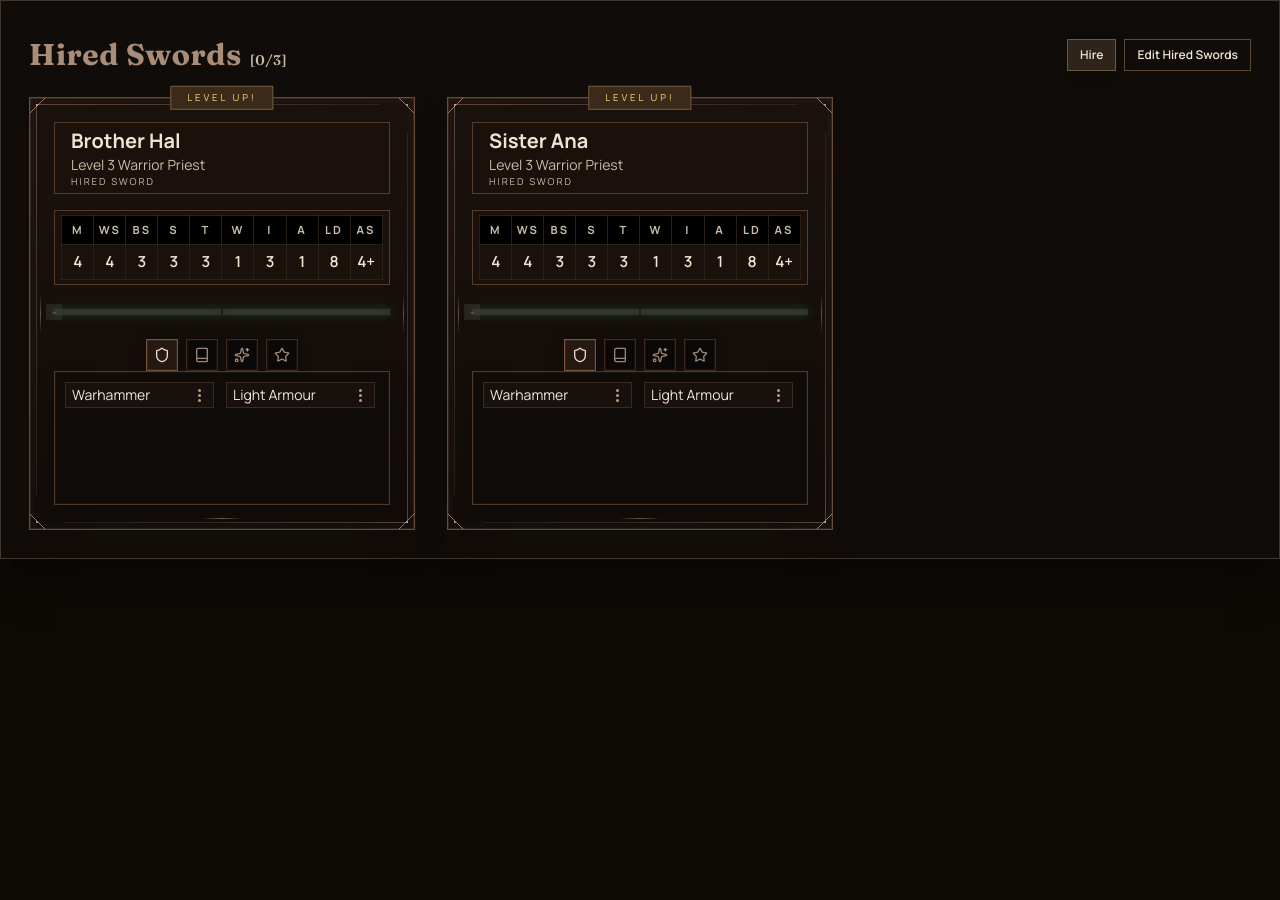
Test: the shop's items only (the bestiary rewrite, step 3) › leaves an unsold beast's item out of a card's item picker, and offers a sold one
The image size is (1280, 900).
Click the button "Edit Hired Swords" at (1188, 55), box x1=1124 y1=39 x2=1251 y2=71
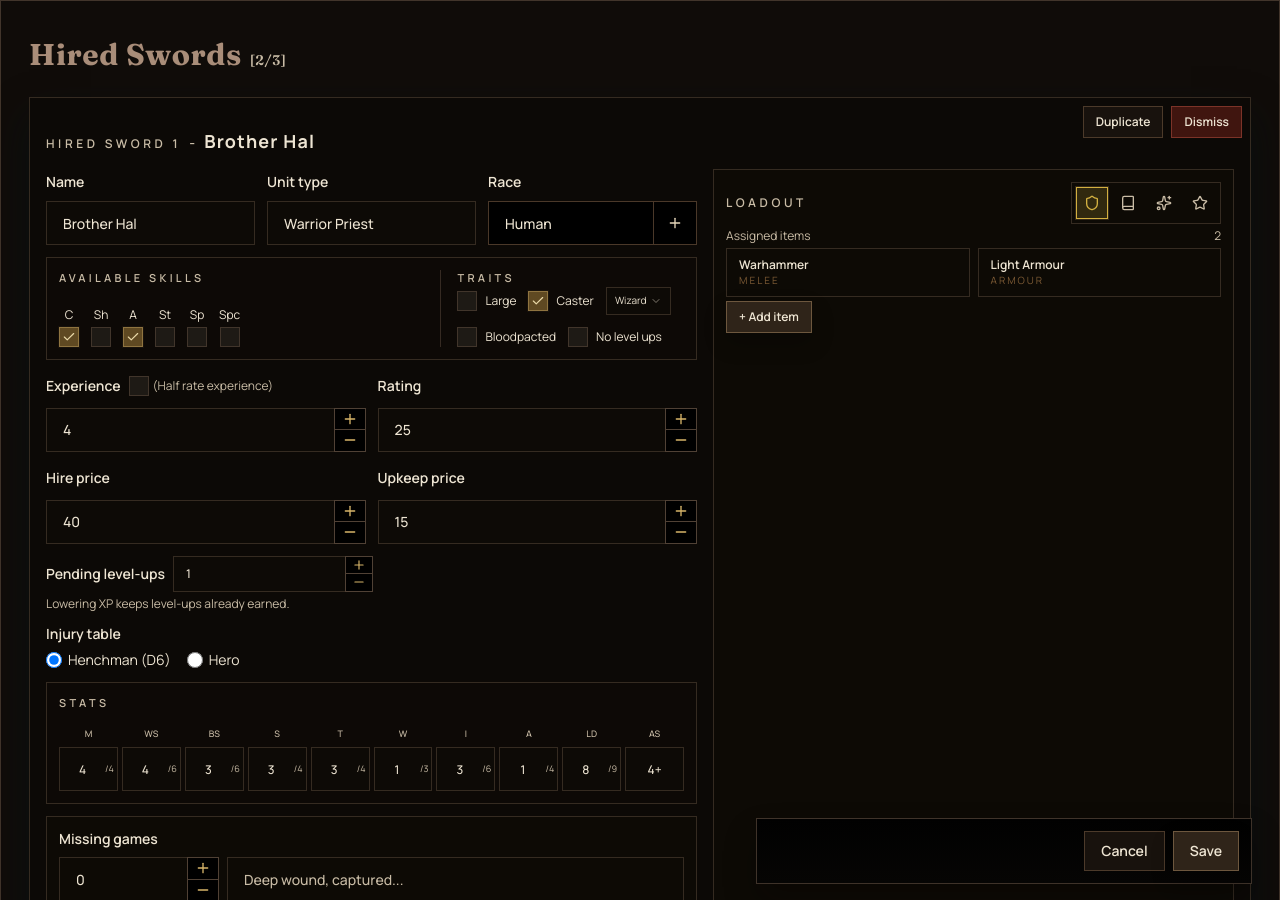
Check: the number of elements "Hired Sword 1" is 2
Click the button named "Items" at (1092, 203), box x1=1076 y1=187 x2=1108 y2=219
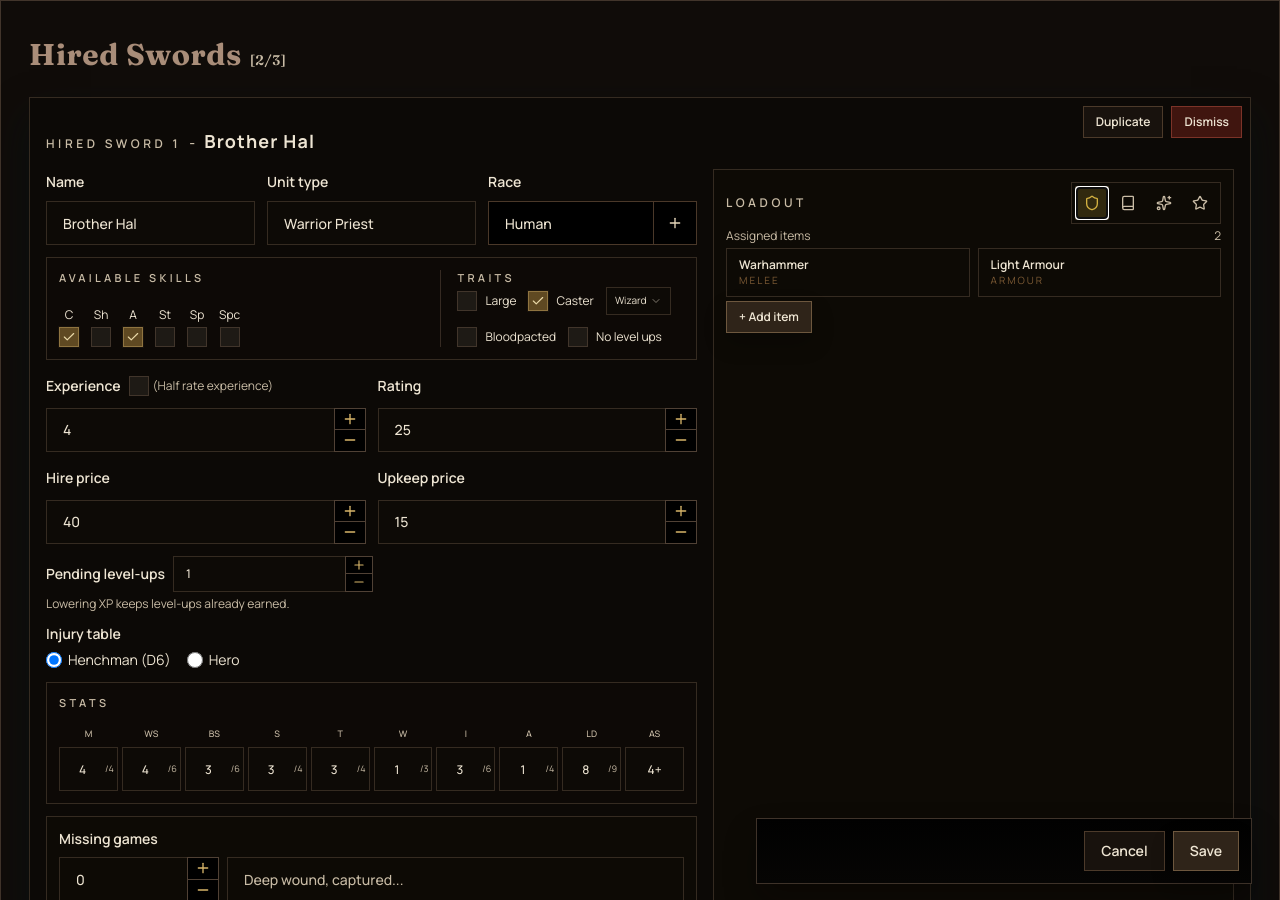
Click the button "+ Add item" at (769, 317), box x1=726 y1=301 x2=812 y2=333
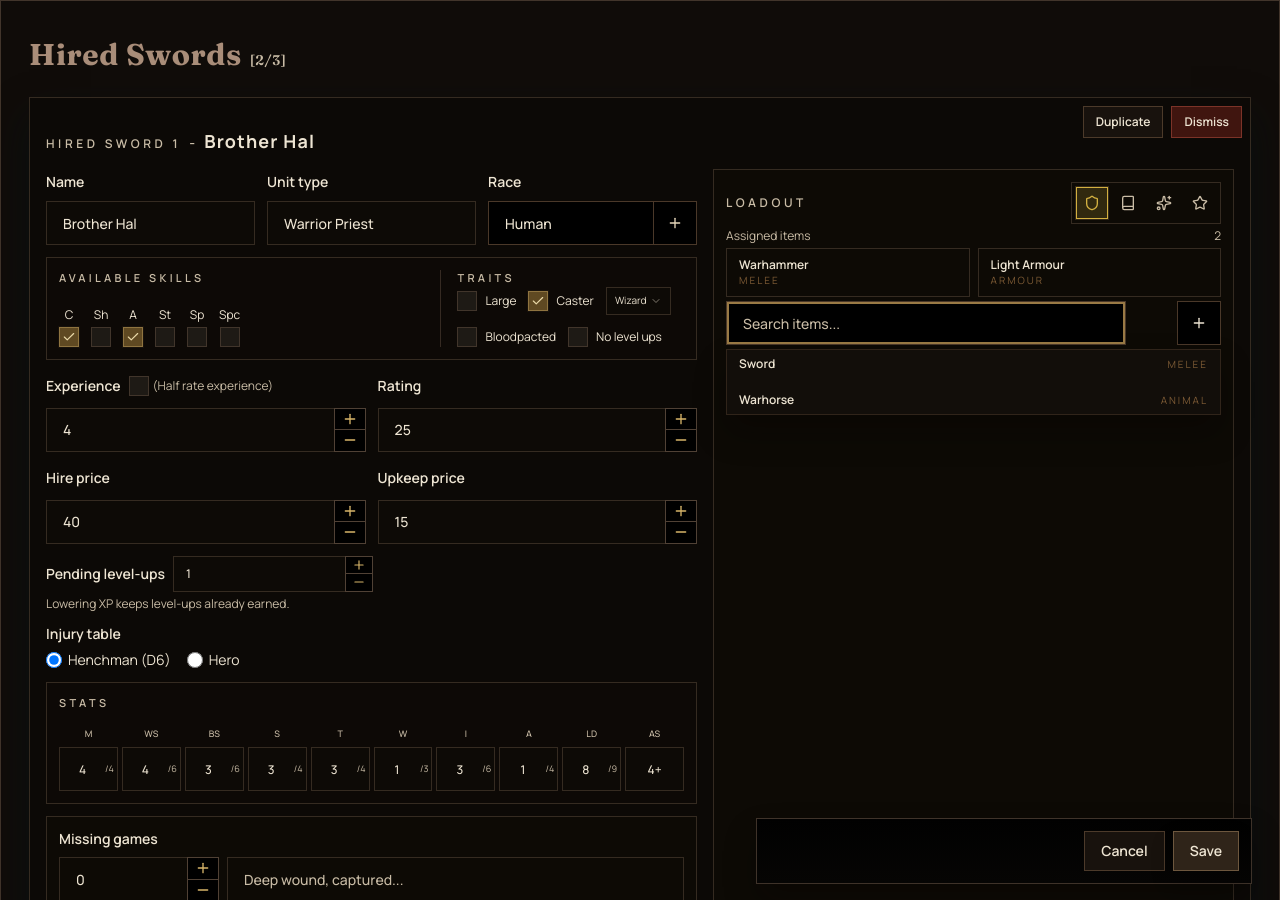
Check: the button "Warhorse Animal" is shown, box x1=727 y1=386 x2=1220 y2=414
Check: the button "Sword Melee" is shown, box x1=727 y1=350 x2=1220 y2=378
